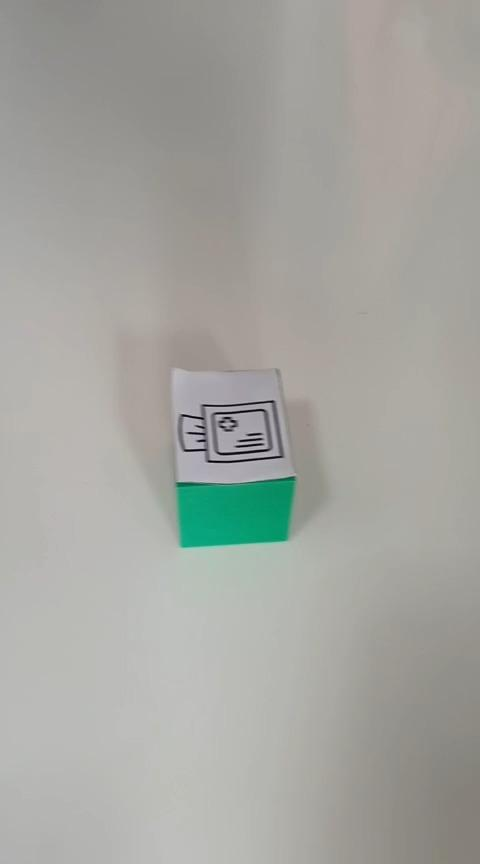Gauze: (168, 365, 297, 548)
